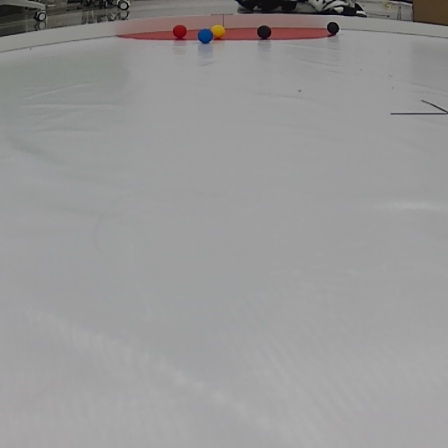black: (254, 23, 274, 38), (325, 21, 344, 36)
blue: (195, 27, 214, 44)
red: (172, 22, 188, 38)
red_base: (114, 25, 339, 42)
yellow: (211, 25, 228, 38)
